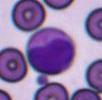M: (27, 26, 76, 74)
